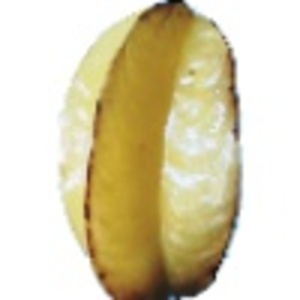carambola: (58, 1, 244, 300)
